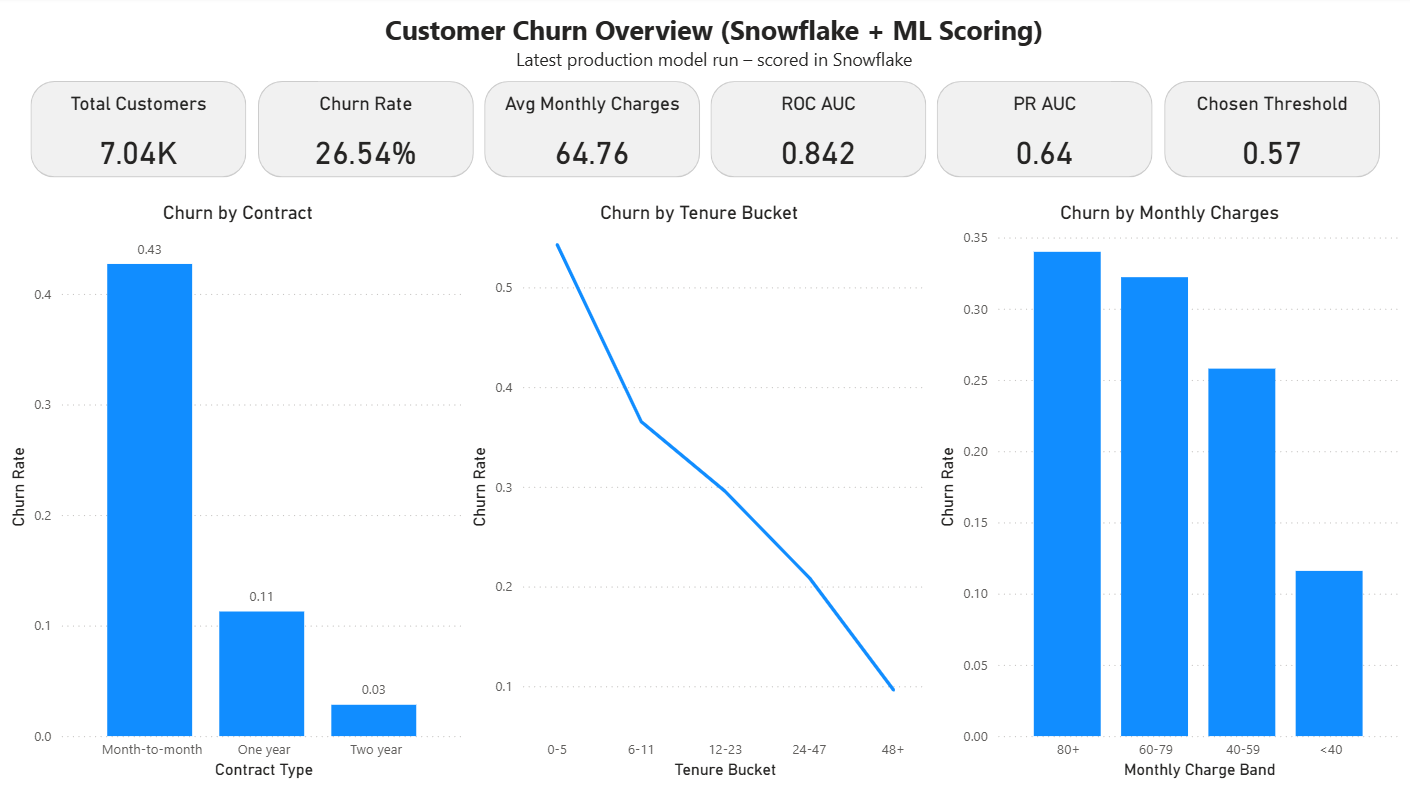

The dashboard page shown, as its layout file describes it:
{"tool":"powerbi","page":{"name":"Executive Summary","canvas":[1280,720],"ordinal":0},"visuals":[{"type":"shape","box":[1055,76.9,195.2,87.3],"z":0},{"type":"shape","box":[849.5,76.9,195.2,87.3],"z":1000},{"type":"shape","box":[644,76.9,195.2,87.3],"z":2000},{"type":"shape","box":[439.6,76.9,195.2,87.3],"z":3000},{"type":"shape","box":[235.2,76.9,195.2,87.3],"z":4000},{"type":"shape","box":[29.7,76.9,195.2,87.3],"z":5000},{"type":"card","title":"Total Customers","fields":{"Values":["Sum(V_KPI_SNAPSHOT.CUSTOMER_COUNT)"]},"box":[29.7,87.3,195.2,87.3],"z":6000},{"type":"card","title":"Churn Rate","fields":{"Values":["Sum(V_KPI_SNAPSHOT.CHURN_RATE)"]},"box":[235.2,87.3,195.2,87.3],"z":7000},{"type":"card","title":"Avg Monthly Charges","fields":{"Values":["Avg(V_KPI_SNAPSHOT.AVG_MONTHLY_CHARGES)"]},"box":[439.6,87.3,195.2,87.3],"z":8000},{"type":"card","title":"ROC AUC","fields":{"Values":["Sum(V_LATEST_MODEL_RUN.ROC_AUC)"]},"box":[644,87.3,195.2,87.3],"z":9000},{"type":"clusteredColumnChart","title":"Churn by Contract","fields":{"Category":["V_CHURN_BY_CONTRACT.CONTRACT_TYPE"],"Y":["Sum(V_CHURN_BY_CONTRACT.CHURN_RATE)"]},"box":[5.3,185.3,422.7,528],"z":10000},{"type":"lineChart","title":"Churn by Tenure Bucket","fields":{"Y":["Sum(V_CHURN_BY_TENURE_BUCKET.CHURN_RATE)"],"Category":["V_CHURN_BY_TENURE_BUCKET.TENURE_BUCKET"]},"box":[422.7,185.3,422.7,528],"z":11000},{"type":"clusteredColumnChart","title":"Churn by Monthly Charges","fields":{"Category":["V_CHURN_BY_MONTHLY_CHARGE_BAND.MONTHLY_CHARGE_BAND"],"Y":["Sum(V_CHURN_BY_MONTHLY_CHARGE_BAND.CHURN_RATE)"]},"box":[845.3,185.3,428,528],"z":12000},{"type":"card","title":"Chosen Threshold","fields":{"Values":["V_LATEST_MODEL_RUN.Chosen Threshold"]},"box":[1055,87.3,195.2,87.3],"z":13000},{"type":"card","title":"PR AUC","fields":{"Values":["V_LATEST_MODEL_RUN.PR AUC"]},"box":[849.5,87.3,195.2,87.3],"z":14000},{"type":"textbox","box":[289.3,9.2,716.5,67.7],"z":15000}]}

Visuals, with their boxes in screenshot pixels (x1, y1, x2, y2), scaled from the page's 1280x720 canvas onto the 1410x785 screenshot:
shape: box(1162, 84, 1377, 179)
shape: box(936, 84, 1151, 179)
shape: box(709, 84, 924, 179)
shape: box(484, 84, 699, 179)
shape: box(259, 84, 474, 179)
shape: box(33, 84, 248, 179)
"Total Customers" card: box(33, 95, 248, 190)
"Churn Rate" card: box(259, 95, 474, 190)
"Avg Monthly Charges" card: box(484, 95, 699, 190)
"ROC AUC" card: box(709, 95, 924, 190)
"Churn by Contract" clusteredColumnChart: box(6, 202, 471, 778)
"Churn by Tenure Bucket" lineChart: box(466, 202, 931, 778)
"Churn by Monthly Charges" clusteredColumnChart: box(931, 202, 1403, 778)
"Chosen Threshold" card: box(1162, 95, 1377, 190)
"PR AUC" card: box(936, 95, 1151, 190)
textbox: box(319, 10, 1108, 84)
